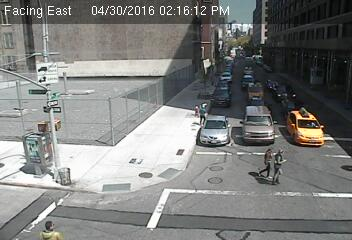neg: (157, 49, 194, 99), (32, 34, 66, 79), (197, 166, 225, 204), (14, 132, 40, 166), (287, 105, 312, 139), (302, 60, 326, 93), (164, 135, 187, 166), (56, 154, 77, 182), (137, 162, 158, 190), (103, 166, 123, 194), (236, 72, 255, 98), (129, 71, 148, 96), (48, 85, 67, 110)
pos: (272, 148, 302, 187), (252, 144, 276, 177), (197, 102, 212, 121), (42, 215, 56, 233)
